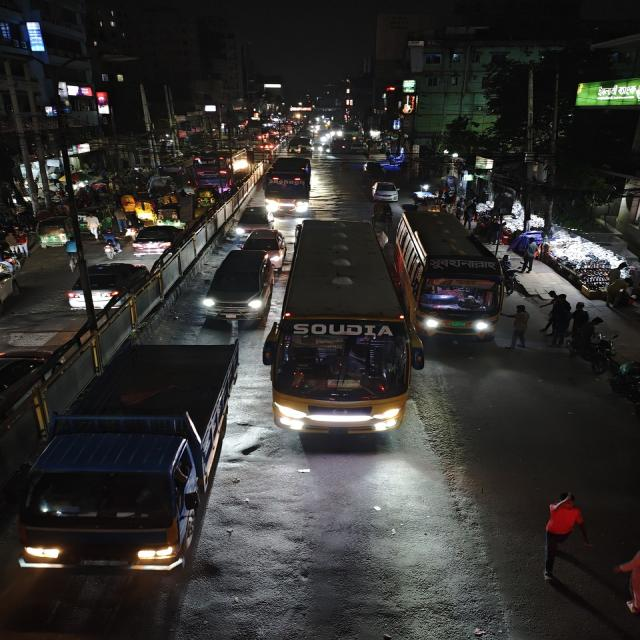bus: (271, 218, 412, 441), (395, 210, 506, 341), (263, 155, 314, 213)
car: (203, 248, 274, 320), (63, 259, 154, 312), (129, 223, 188, 257), (239, 228, 287, 268), (231, 205, 274, 237), (368, 179, 401, 203)
cng: (35, 214, 77, 250), (150, 202, 184, 225)
motorcycle: (98, 231, 123, 259)
pedestrian: (529, 487, 596, 579), (608, 522, 640, 630), (544, 292, 572, 348), (508, 304, 532, 348), (604, 277, 628, 310), (569, 300, 590, 335)
pickup_van: (34, 334, 240, 578)
rickshaw: (118, 193, 138, 214)
